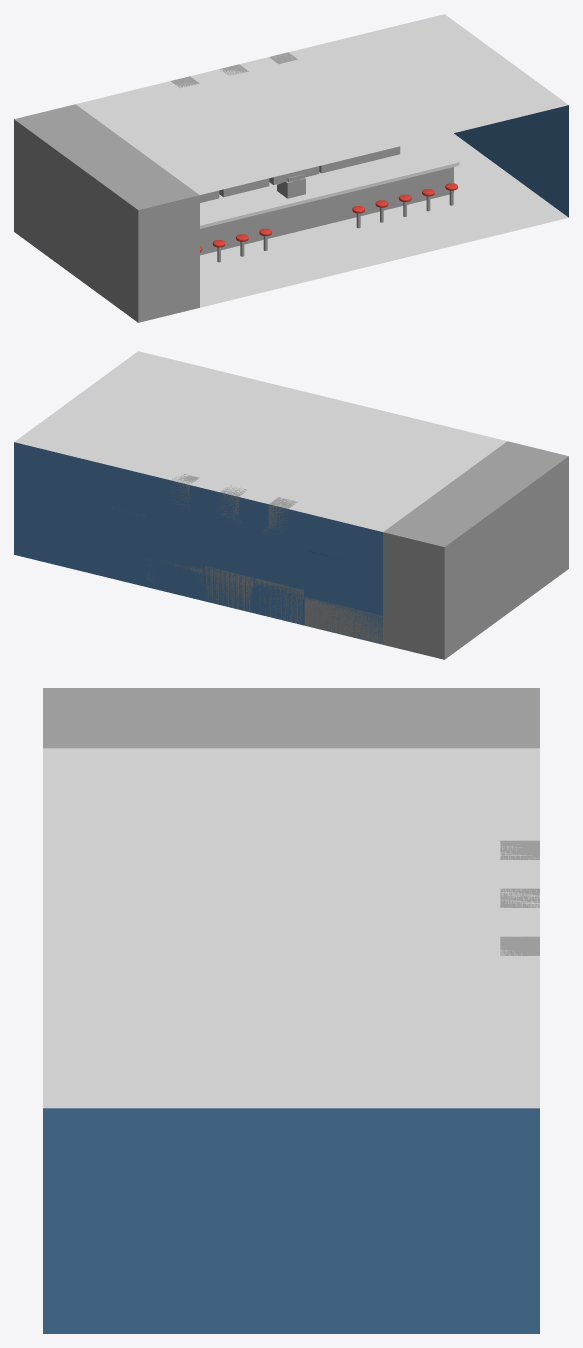
The model's file is diner 2.fbx.
3 renders of one model, top to bottom at view 1: azimuth 30°, elevation 25°; view 2: azimuth 150°, elevation 25°; view 3: azimuth 270°, elevation 25°, orthographic. The views are drawn at different scales.
Parts seen in each view (by area): view 1: Plane.000, Cylinder; view 2: Plane.000; view 3: Plane.000.
Boxes of the visible parts, x1,y1,x2,y2 form: Plane.000: (14,14,568,322); Cylinder: (200,174,457,262); Plane.000: (14,351,568,659); Plane.000: (43,688,539,1333).
Size of the model in its own units: 14 by 3.5 by 7.
